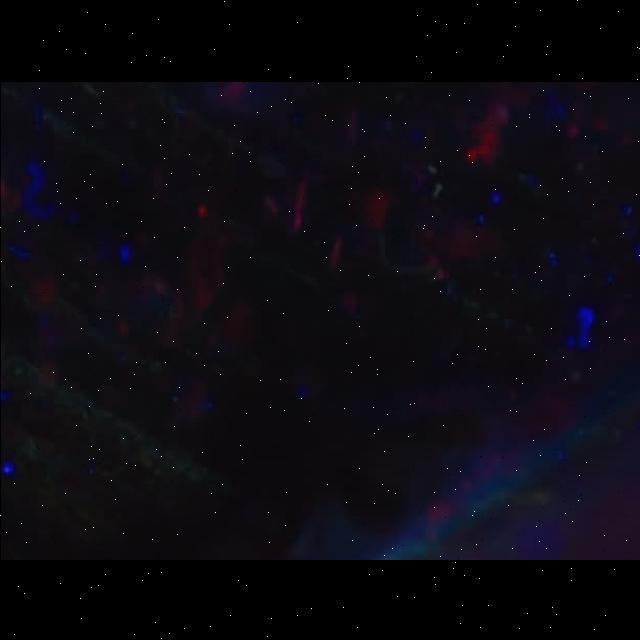Fragment: (463, 100, 511, 166)
